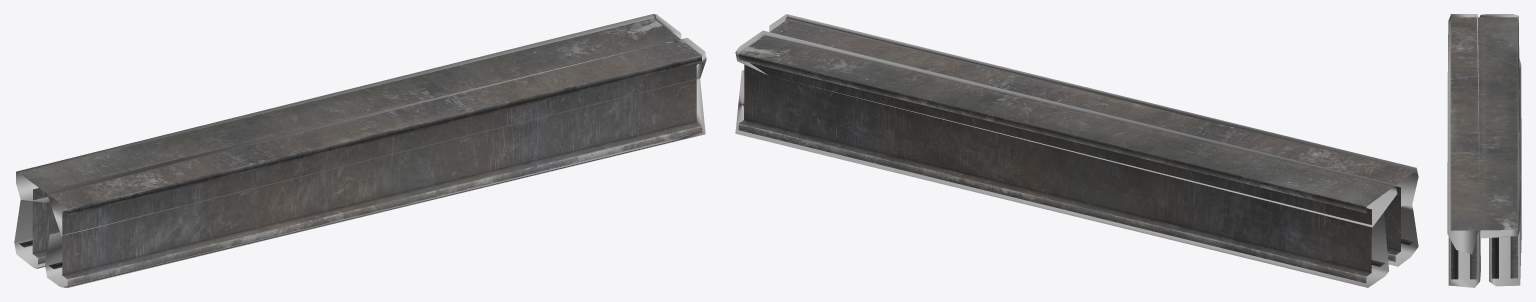
File: SM_Metal_beams_Short.gltf
The picture shows the model from 3 angles, left to right: view 1: azimuth 30°, elevation 25°; view 2: azimuth 150°, elevation 25°; view 3: azimuth 270°, elevation 25°; orthographic projection. The views are drawn at different scales.
Visible parts, largest first — view 1: SM_Metal_beams_Short_LOD0, SM_Metal_beams_Short_ConvexHulls; view 2: SM_Metal_beams_Short_LOD0, SM_Metal_beams_Short_ConvexHulls; view 3: SM_Metal_beams_Short_LOD0, SM_Metal_beams_Short_ConvexHulls.
Part boxes in pixels (box(x1,y1,x2,y2)): SM_Metal_beams_Short_LOD0: box(19, 18, 701, 285); SM_Metal_beams_Short_ConvexHulls: box(14, 14, 706, 287); SM_Metal_beams_Short_LOD0: box(738, 19, 1414, 283); SM_Metal_beams_Short_ConvexHulls: box(735, 14, 1418, 287); SM_Metal_beams_Short_LOD0: box(1450, 17, 1517, 279); SM_Metal_beams_Short_ConvexHulls: box(1447, 14, 1521, 287).
Size of what is drawn, in the model's own units: 2.89 by 0.3823 by 0.4258.
